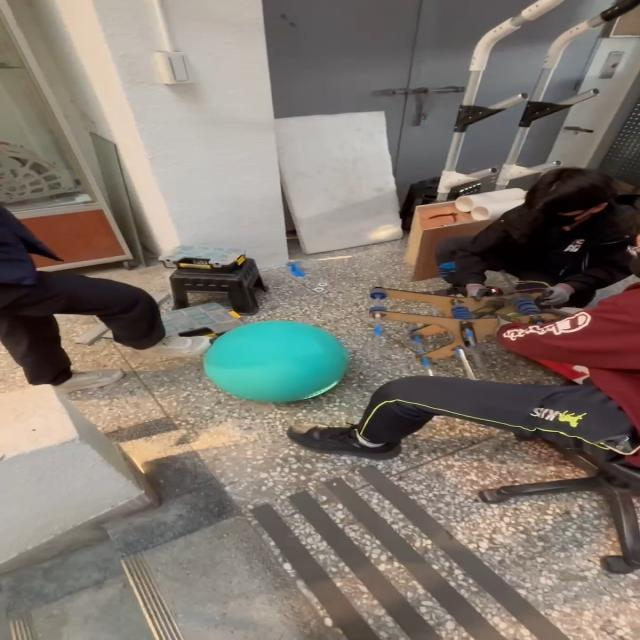ALGAE: (200, 318, 350, 404)
